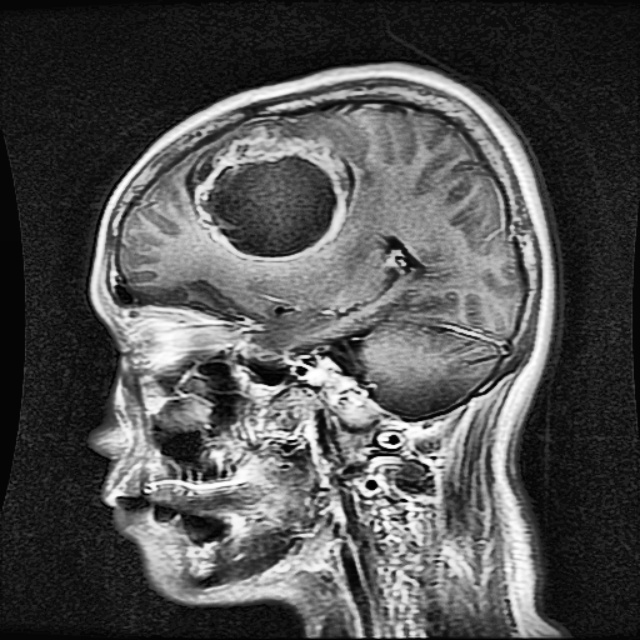Meningioma: (198, 133, 352, 263)
